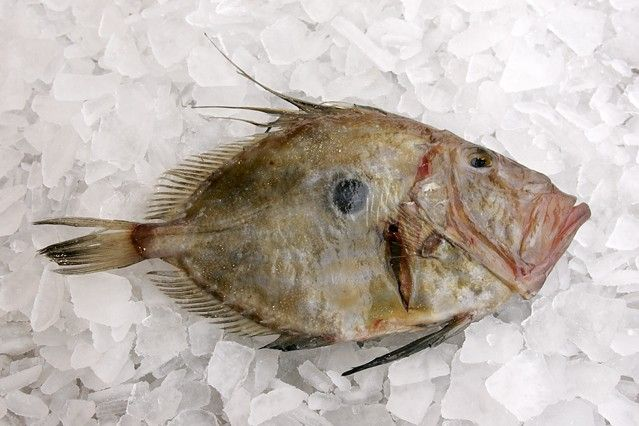fish: (33, 34, 592, 377)
